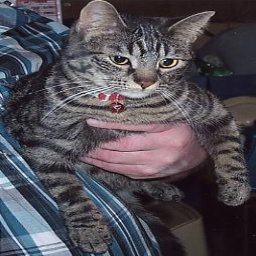cat: (10, 9, 247, 251)
